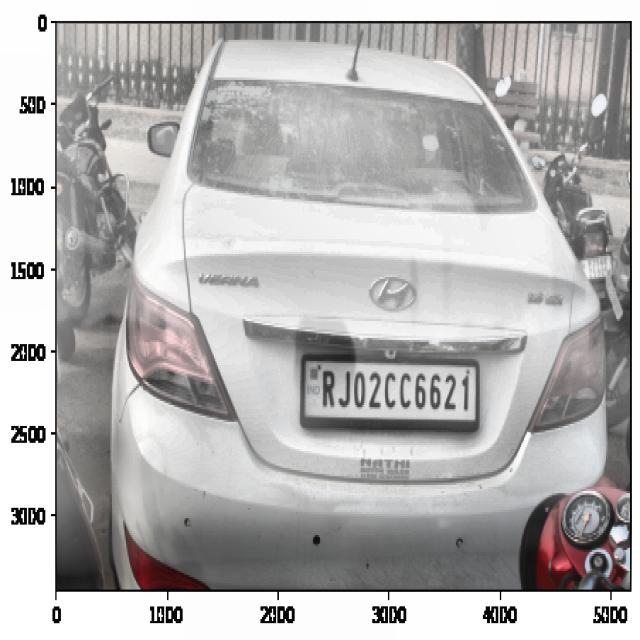license_plate: (318, 360, 476, 426)
